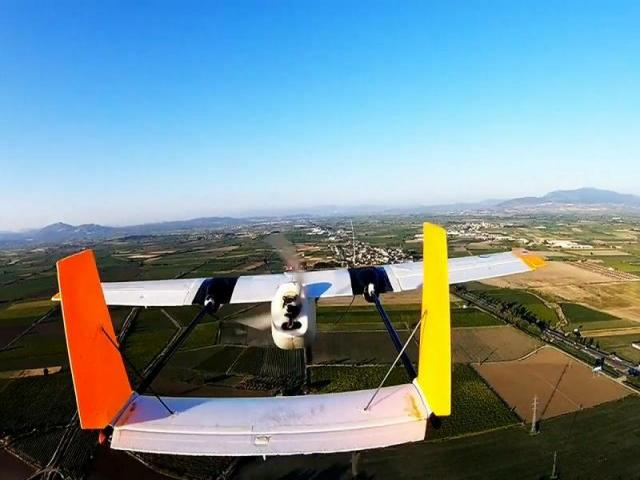hedef: (19, 203, 557, 462)
